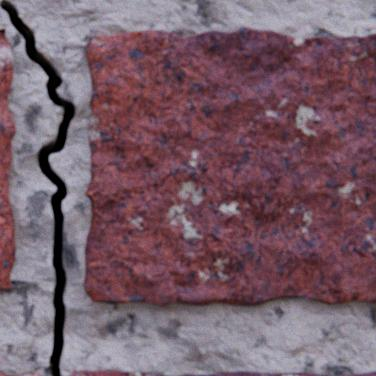brick: (84, 28, 375, 305), (0, 30, 16, 288)
broken_brick: (176, 370, 331, 375), (64, 368, 174, 375), (342, 370, 375, 375), (0, 372, 45, 375)
crack: (0, 0, 76, 375)
